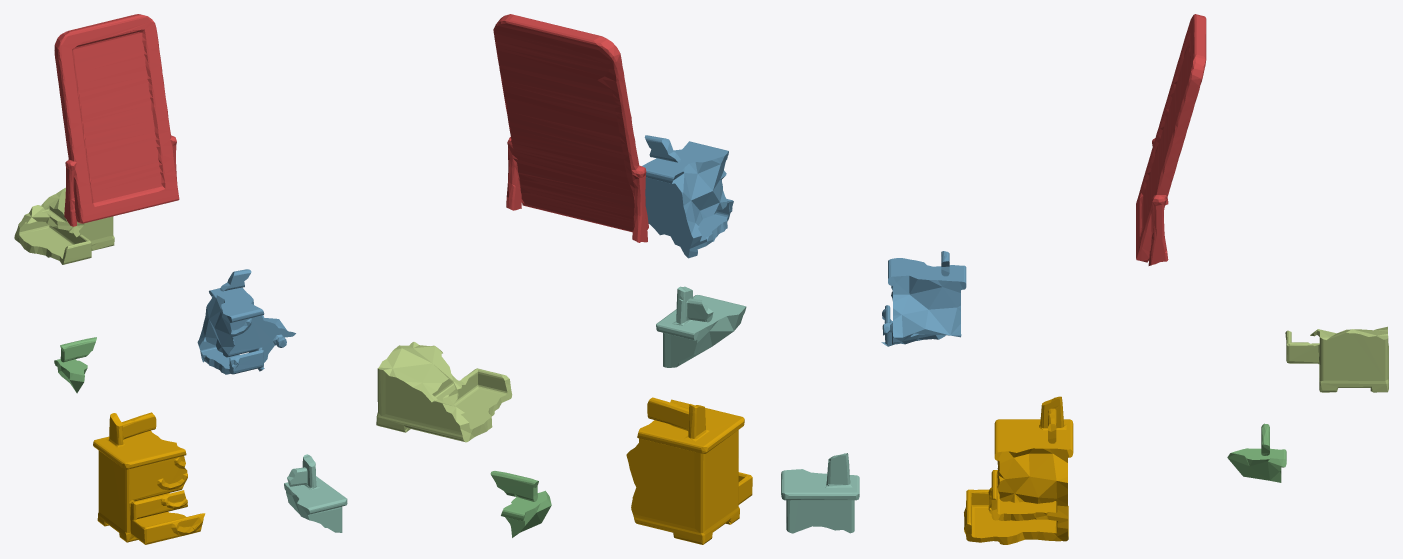
The model's file is fractured_29_6pcs_transformed.glb.
The picture shows the model from 3 angles, left to right: view 1: azimuth 30°, elevation 25°; view 2: azimuth 150°, elevation 25°; view 3: azimuth 270°, elevation 25°; orthographic projection. The views are drawn at different scales.
Visible parts, largest first — view 1: piece_1.obj, piece_0.obj, piece_2.obj, piece_5.obj, piece_4.obj, piece_3.obj; view 2: piece_1.obj, piece_0.obj, piece_5.obj, piece_2.obj, piece_4.obj, piece_3.obj; view 3: piece_0.obj, piece_1.obj, piece_2.obj, piece_5.obj, piece_4.obj, piece_3.obj.
Boxes of the visible parts, x1,y1,x2,y2 form: piece_1.obj: [54, 14, 179, 226]; piece_0.obj: [93, 412, 205, 544]; piece_2.obj: [197, 269, 295, 374]; piece_5.obj: [14, 187, 114, 264]; piece_4.obj: [284, 454, 347, 532]; piece_3.obj: [54, 337, 96, 393]; piece_1.obj: [493, 14, 648, 242]; piece_0.obj: [626, 397, 752, 544]; piece_5.obj: [376, 342, 512, 442]; piece_2.obj: [642, 135, 733, 258]; piece_4.obj: [656, 286, 746, 367]; piece_3.obj: [490, 471, 551, 537]; piece_0.obj: [964, 396, 1073, 544]; piece_1.obj: [1136, 14, 1206, 265]; piece_2.obj: [881, 251, 966, 346]; piece_5.obj: [1285, 326, 1388, 392]; piece_4.obj: [781, 453, 859, 533]; piece_3.obj: [1227, 423, 1286, 482].
Bounding box in the file's own units: 0.502 × 1.6 × 1.71.
